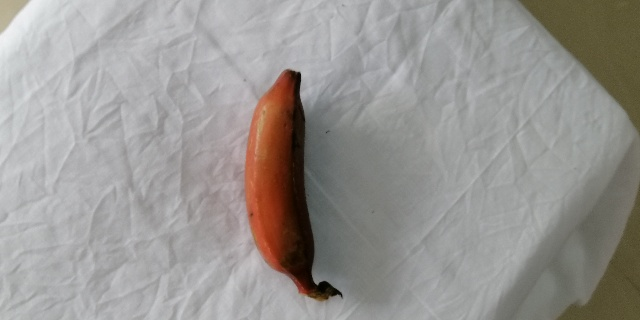banana_red: (246, 68, 349, 296)
